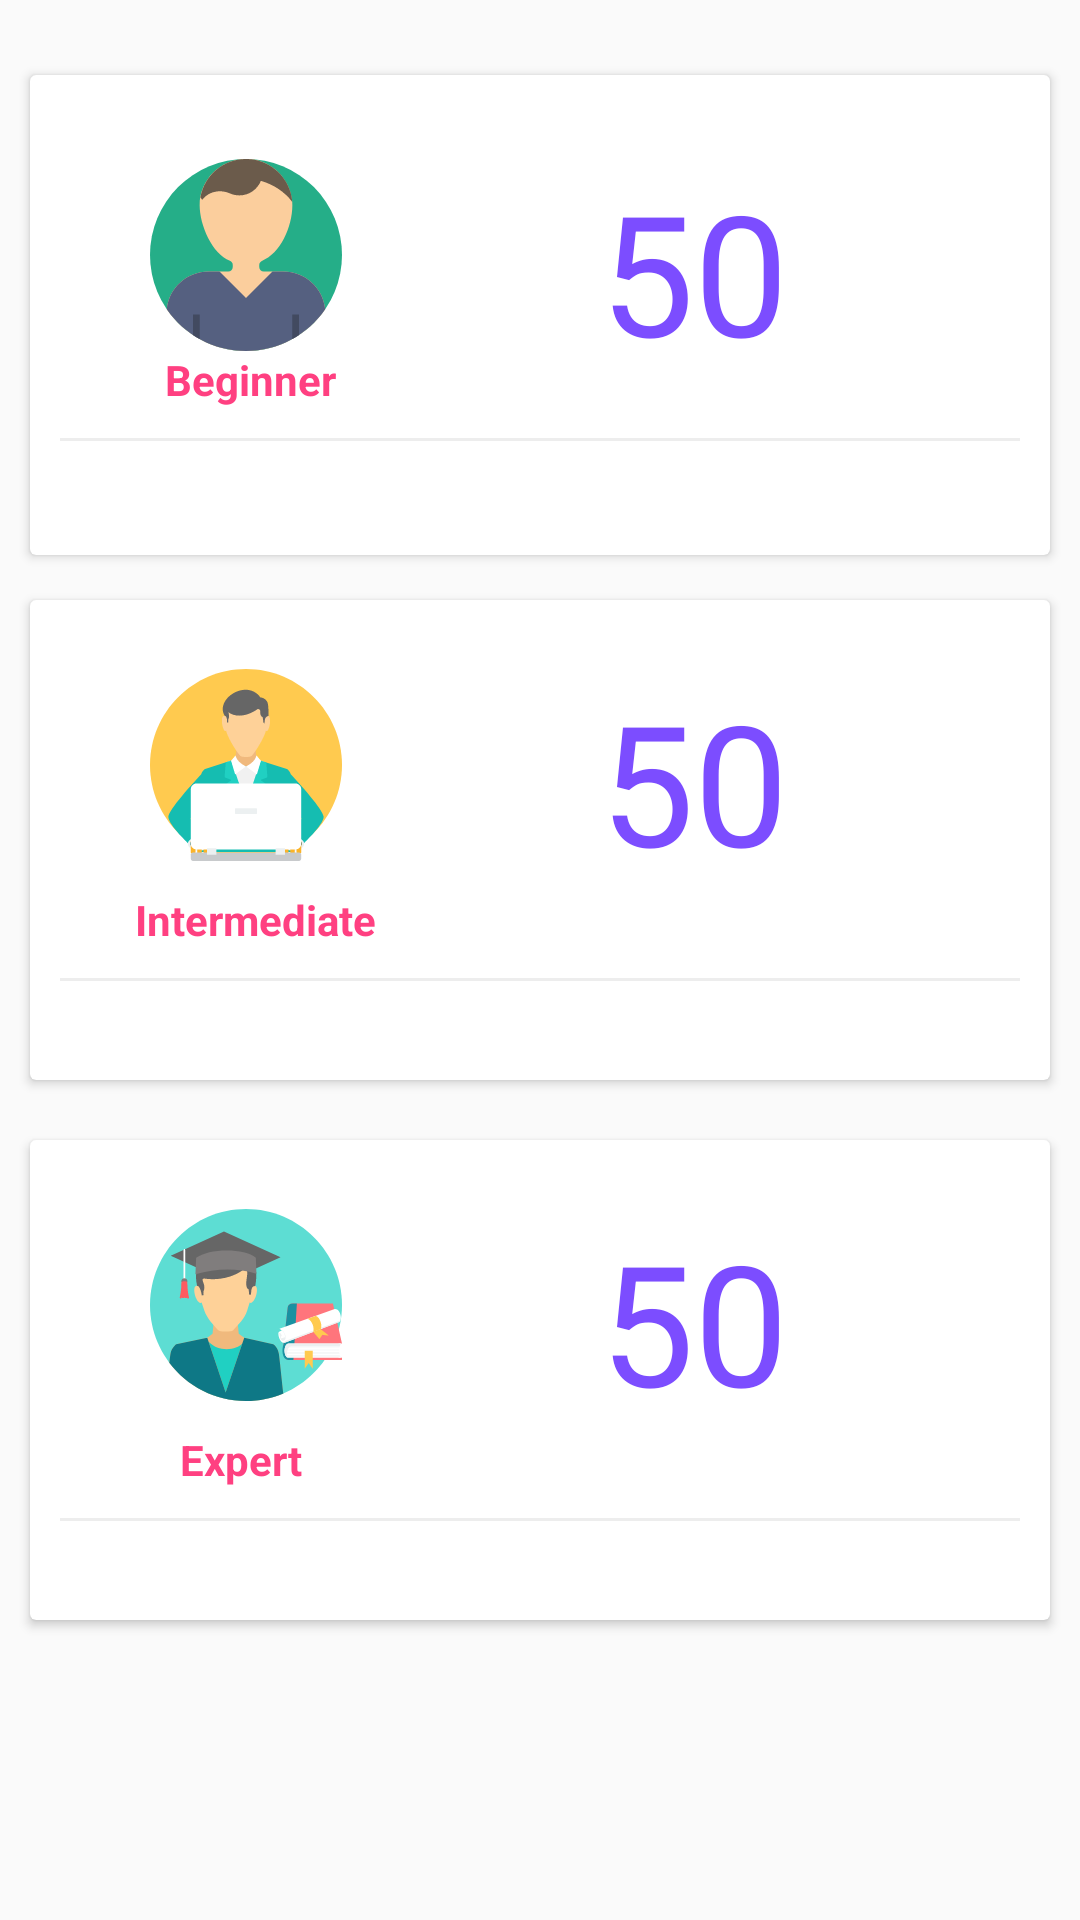

Where to tap for icons on this 1080w x 1920h app screen, as (x,y):
graduate: (246,1305)
student: (246,765)
user: (246,255)
